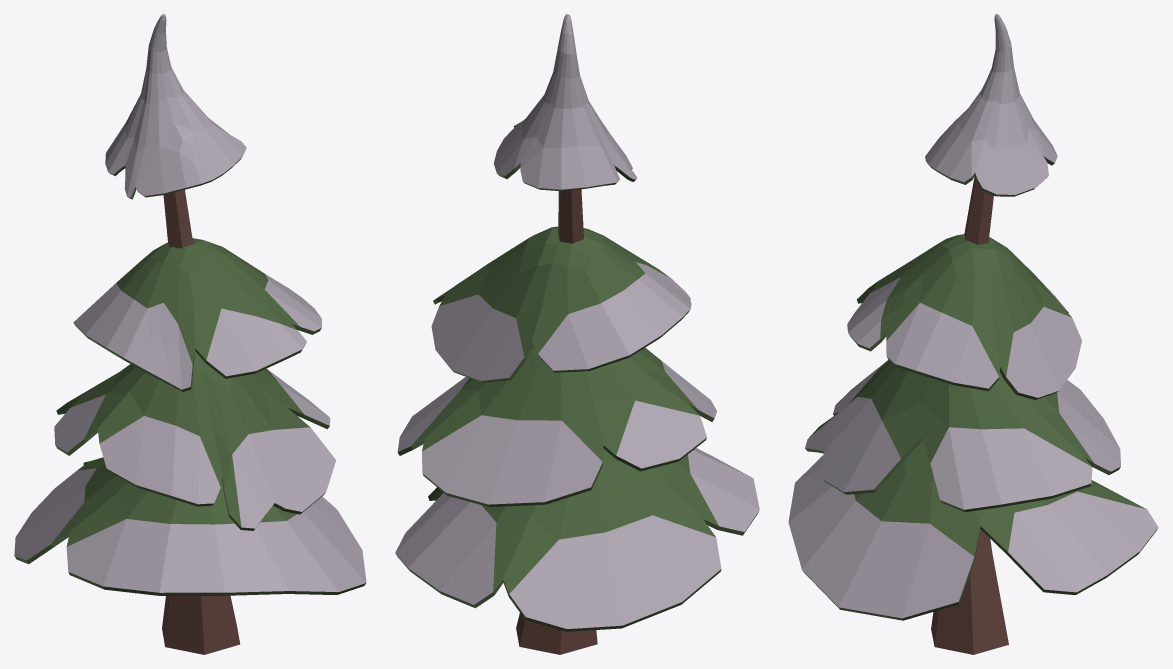
Rendered from pine_snow2.glb.
3 renders of one model, left to right at view 1: azimuth 30°, elevation 25°; view 2: azimuth 150°, elevation 25°; view 3: azimuth 270°, elevation 25°, orthographic. The views are drawn at different scales.
Parts seen in each view (by area): view 1: PineTree_Snow_2; view 2: PineTree_Snow_2; view 3: PineTree_Snow_2.
Boxes of the visible parts, bbox=[...] form: PineTree_Snow_2: bbox=[14, 14, 366, 654]; PineTree_Snow_2: bbox=[395, 14, 759, 654]; PineTree_Snow_2: bbox=[788, 14, 1158, 654].
Bounding box in the file's own units: 1.8 × 3.56 × 1.96.
